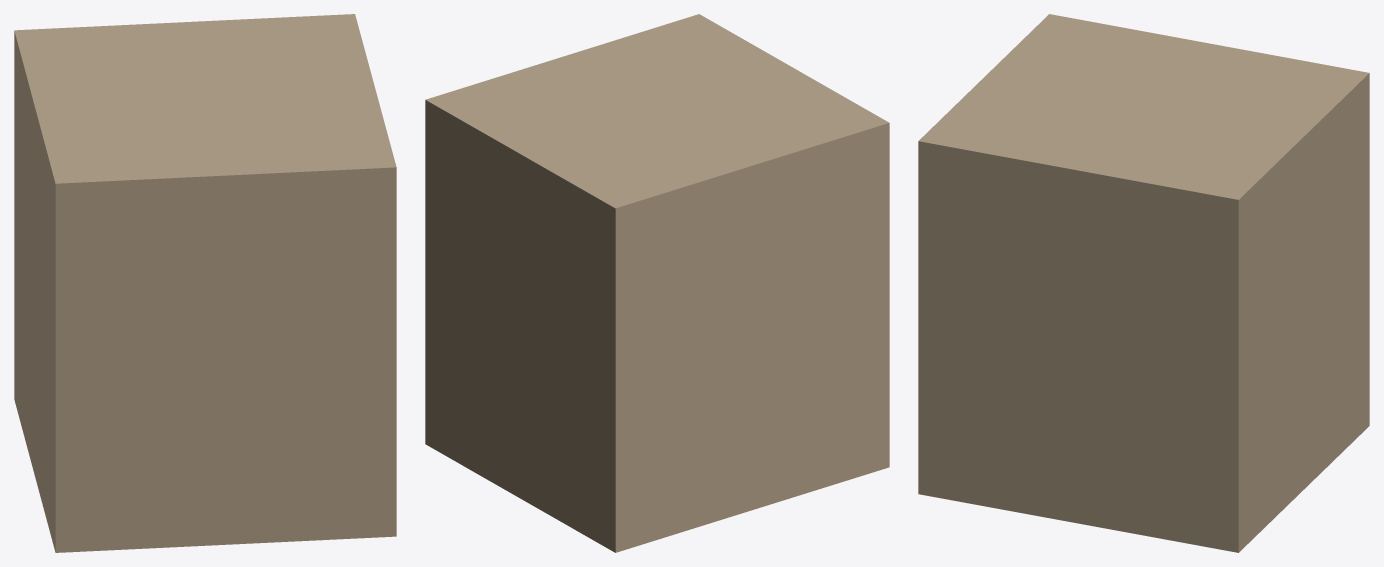
Rendered from bld_99520333.dae.
3 renders of one model, left to right at view 1: azimuth 30°, elevation 25°; view 2: azimuth 150°, elevation 25°; view 3: azimuth 270°, elevation 25°, orthographic. The views are drawn at different scales.
Visible parts, largest first — view 1: bld_99520333; view 2: bld_99520333; view 3: bld_99520333.
Part boxes in pixels (x1,y1,x2,y2): bld_99520333: (14, 14, 396, 552); bld_99520333: (425, 14, 889, 552); bld_99520333: (918, 14, 1369, 552).
Size of the model in its own units: 9.04 by 9.27 by 8.
